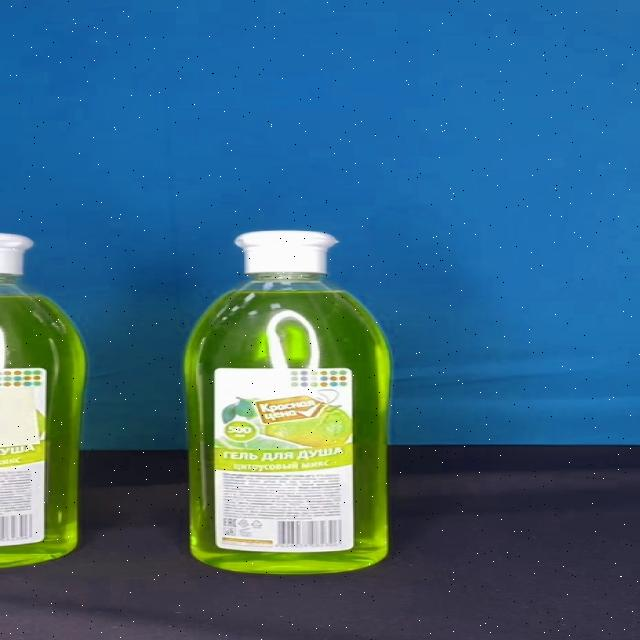Bottle: (183, 230, 392, 576)
Cap: (234, 231, 338, 274)
